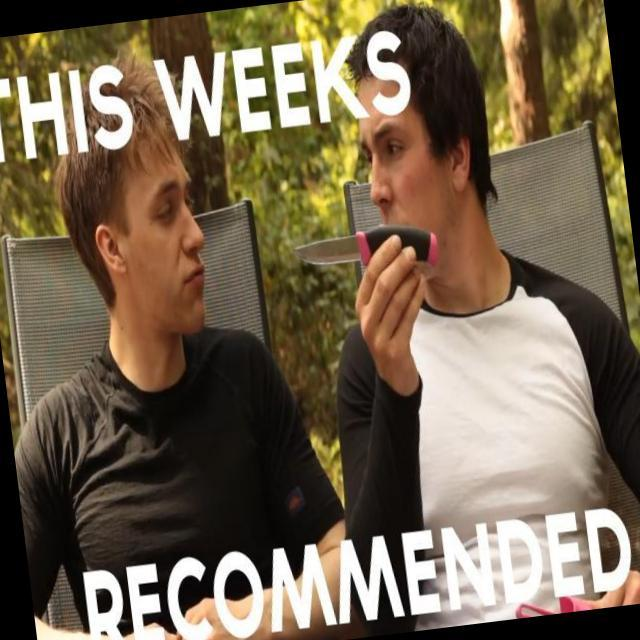Knife: (278, 198, 452, 312)
